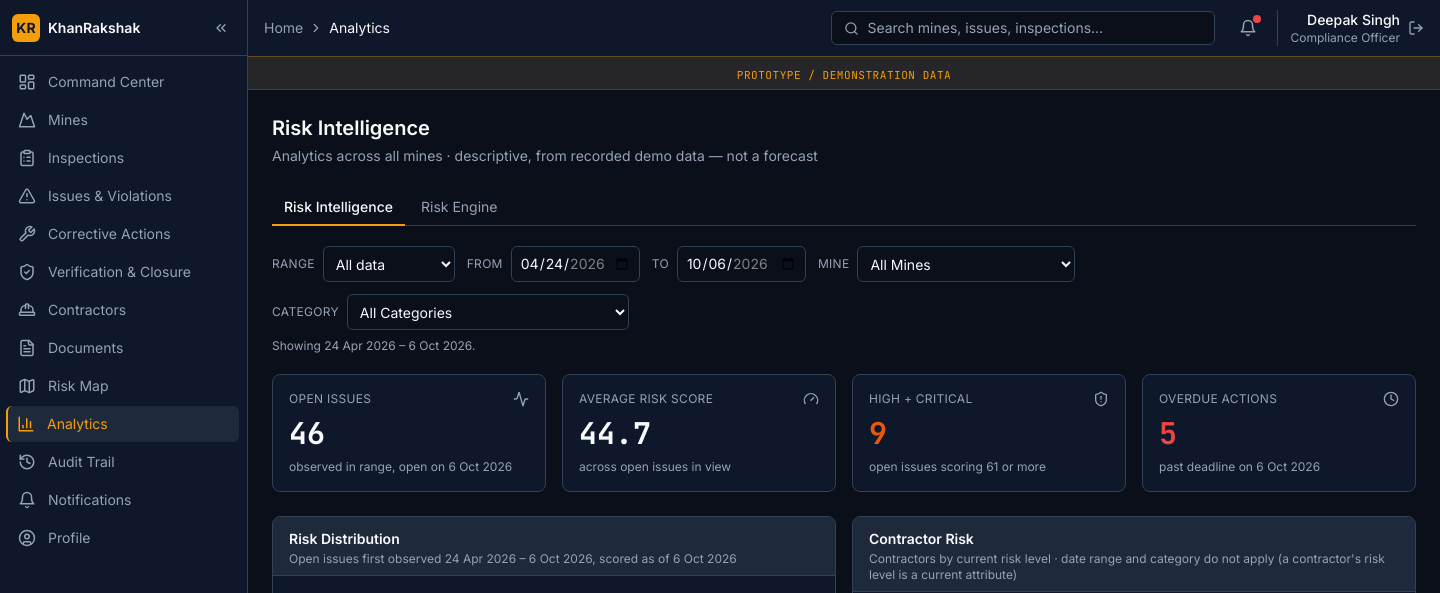
Scenario: Filters change the charts › Mine filter narrows every chart and writes the URL
Select "Talcher Seam Extension 2" in the dropdown labelled "Mine" at (966, 264), box [858, 246, 1076, 282]
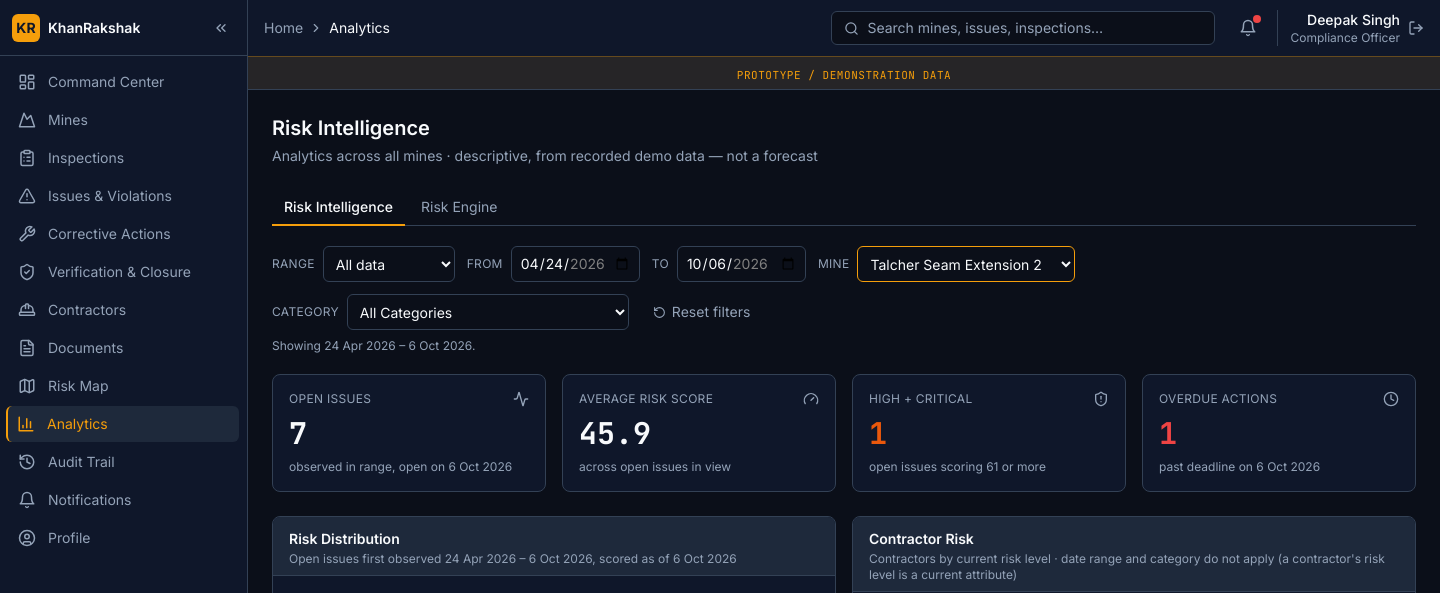
Check: the button "Reset filters" is shown, box [641, 294, 762, 330]
